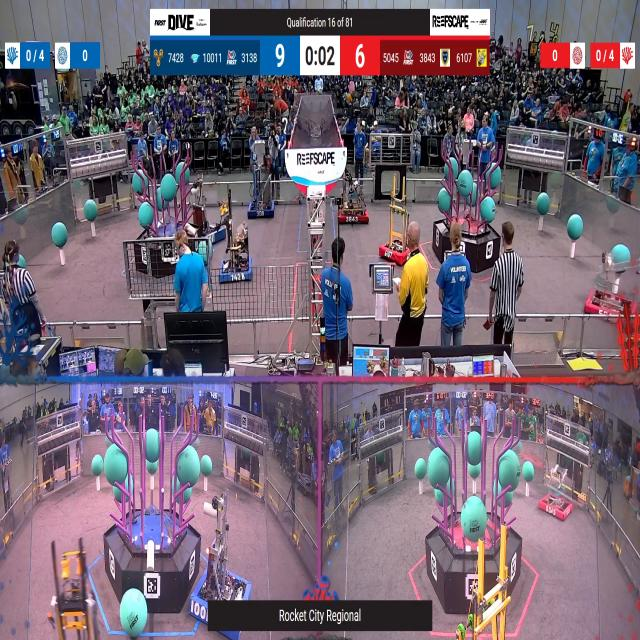scoreboard: (151, 35, 489, 75)
